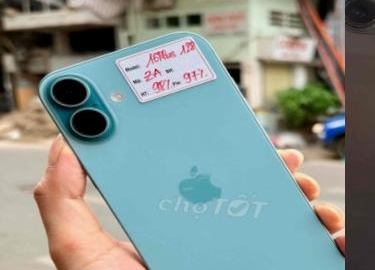scratch: (345, 0, 375, 31)
